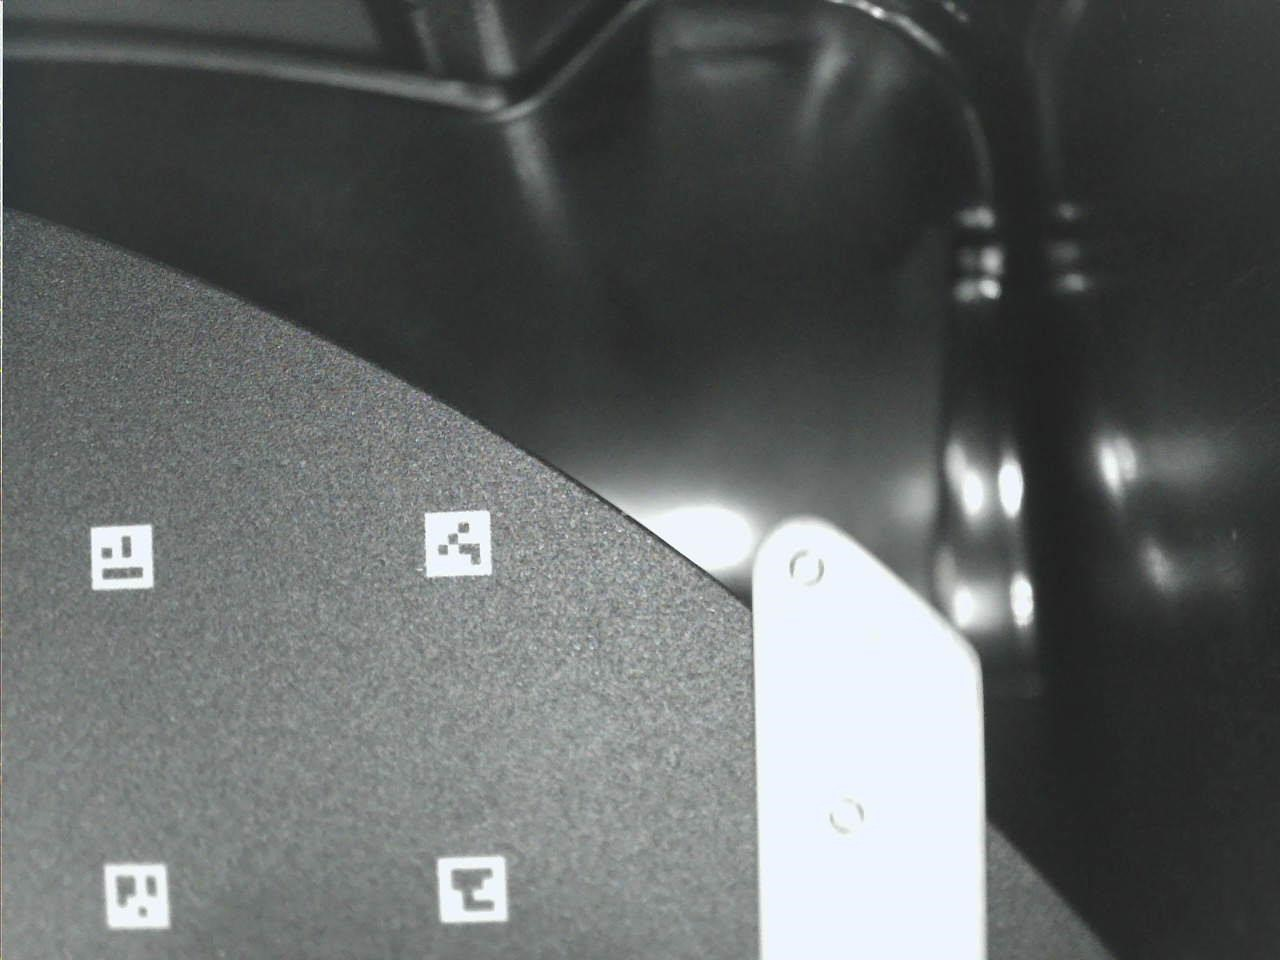forktip: (741, 491, 1000, 960)
